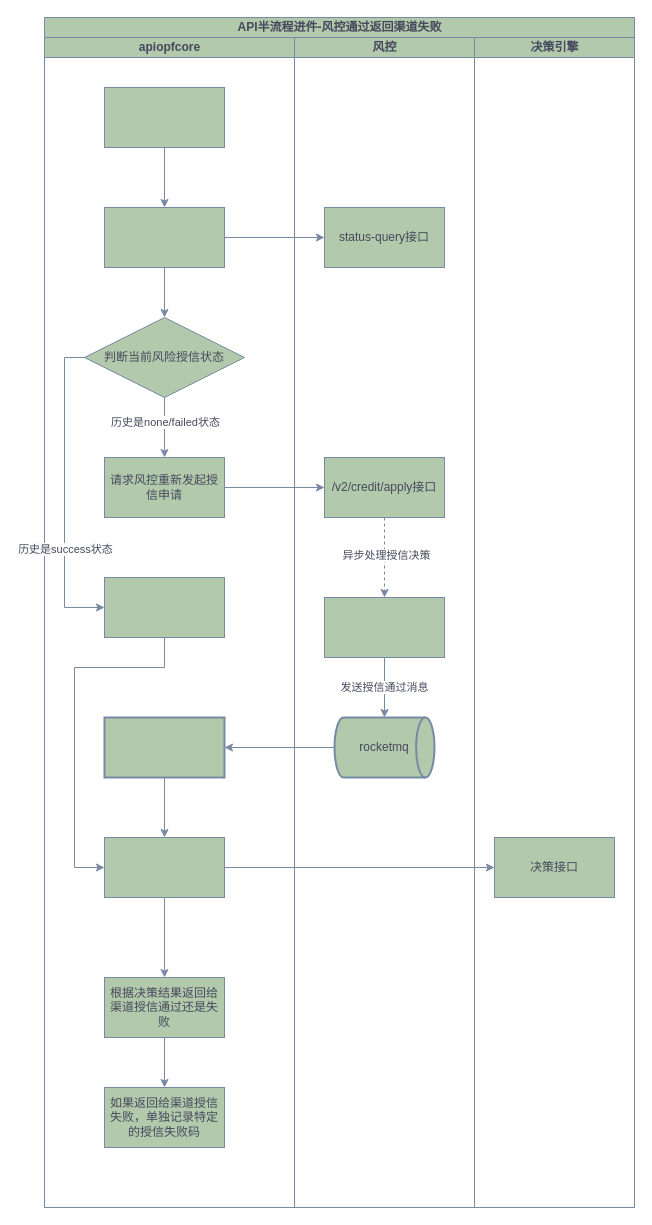
Image size: 652x1225. Some labels were removed from this diagram. Here are the shapes that lost their labels. From the top down, the centre of each, then its label:
At pixel 164 117: "处理授信激活逻辑".
At pixel 164 237: "请求风控查询当前的授信状态".
At pixel 164 607: "复用历史的授信成功状态".
At pixel 384 627: "授信结果为授信成功，通知apiopfcore".
At pixel 164 747: "接收授信通过消息".
At pixel 164 867: "命中半流程配置的渠道，请求决策引擎决策返回给渠道成功/失败".
